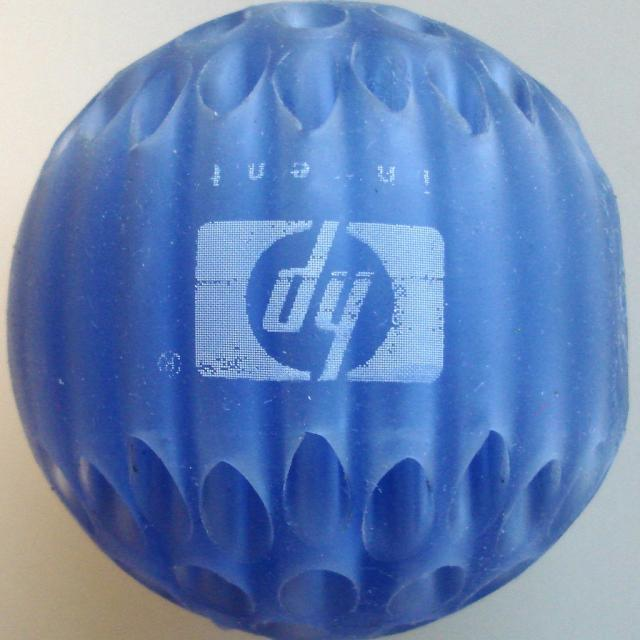HP: (193, 218, 448, 386)
